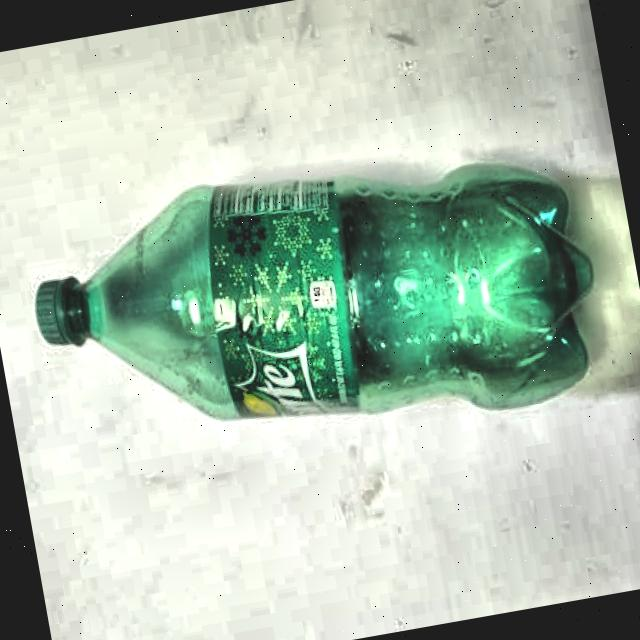plastic: (17, 124, 614, 488)
